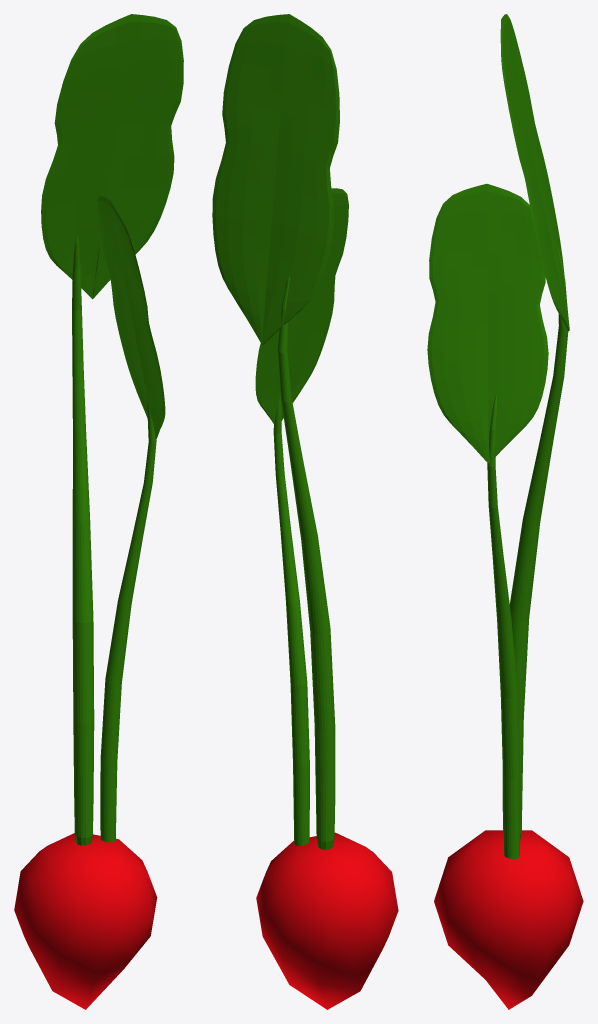
Rendered from Radish Seed VegetatingHeadSDM4.2.fbx.
3 views of the same model, side by side, from view 1: azimuth 30°, elevation 25°; view 2: azimuth 150°, elevation 25°; view 3: azimuth 270°, elevation 25° (orthographic). The views are drawn at different scales.
Parts seen in each view (by area): view 1: Plane.002, Icosphere, Cylinder.003, Plane.003, Cylinder.004; view 2: Plane.002, Icosphere, Cylinder.003, Plane.003, Cylinder.004; view 3: Plane.003, Icosphere, Plane.002, Cylinder.003, Cylinder.004.
Part boxes in pixels (x1,y1,x2,y2): Plane.002: (41, 14, 183, 299); Icosphere: (14, 833, 157, 1009); Cylinder.003: (72, 236, 94, 845); Plane.003: (97, 196, 165, 438); Cylinder.004: (100, 399, 156, 842); Plane.002: (212, 14, 339, 345); Icosphere: (256, 832, 398, 1009); Cylinder.003: (277, 275, 335, 849); Plane.003: (255, 188, 348, 424); Cylinder.004: (273, 392, 309, 845); Plane.003: (427, 183, 548, 463); Icosphere: (434, 830, 583, 1009); Plane.002: (500, 14, 569, 331); Cylinder.003: (502, 246, 568, 840); Cylinder.004: (487, 392, 520, 859).
Bounding box in the file's own units: 255 × 1491 × 209.
